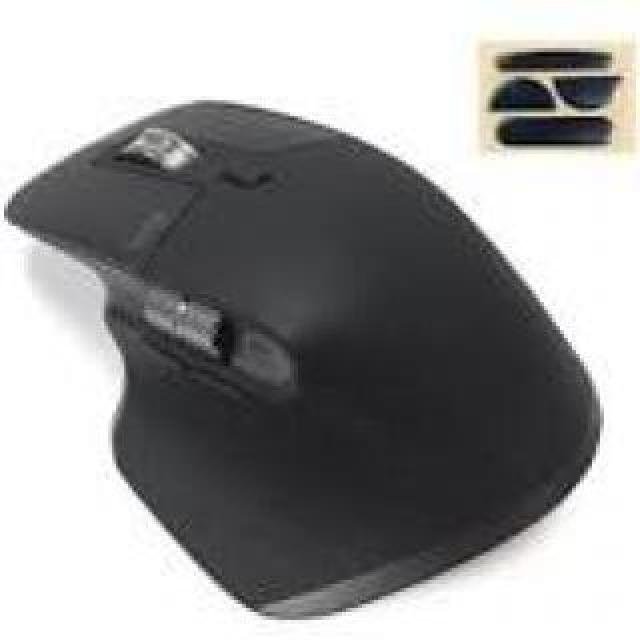mouse: (2, 0, 638, 608)
